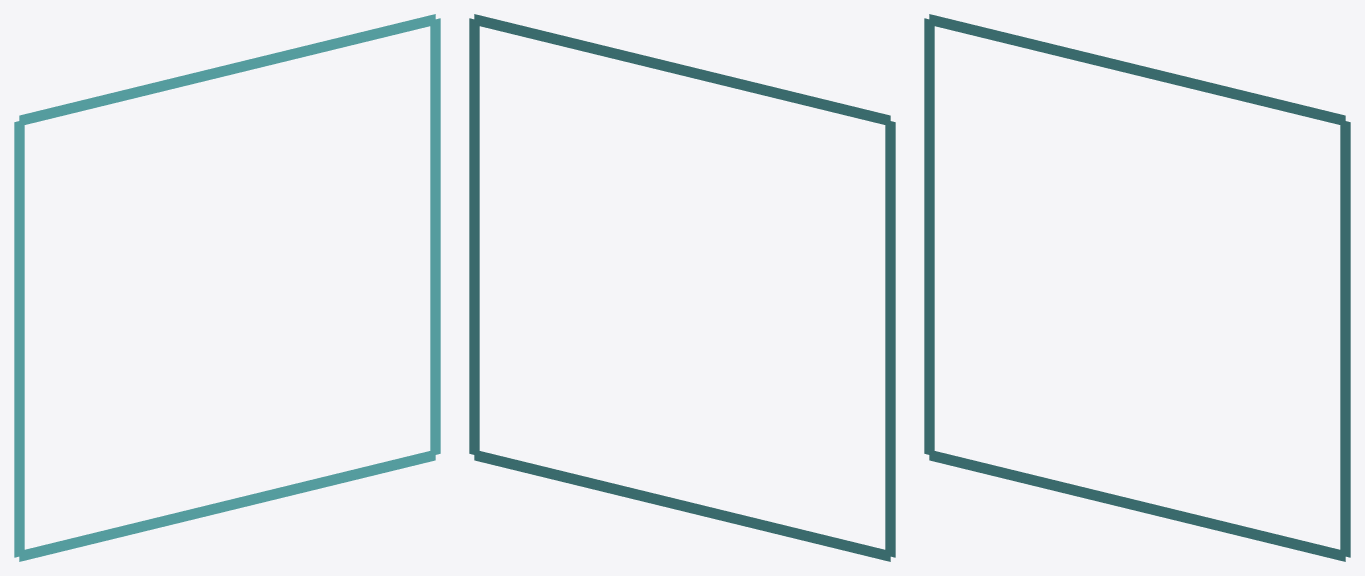
The model's file is UI_Frame.glb.
3 views of the same model, side by side, from view 1: azimuth 30°, elevation 25°; view 2: azimuth 150°, elevation 25°; view 3: azimuth 330°, elevation 25° (orthographic).
Visible parts, largest first — view 1: UI_Frame; view 2: UI_Frame; view 3: UI_Frame.
Part boxes in pixels (bbox=[...]): UI_Frame: bbox=[14, 14, 440, 561]; UI_Frame: bbox=[469, 14, 895, 561]; UI_Frame: bbox=[924, 14, 1350, 561].
Bounding box in the file's own units: 1.02 × 1.02 × 0.
